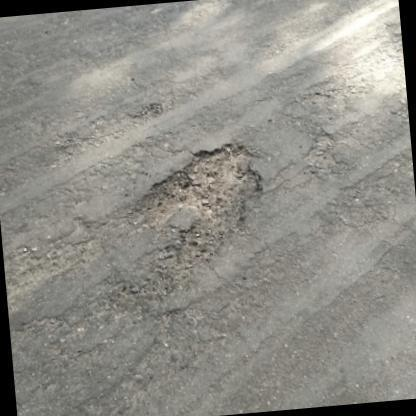pothole: (126, 140, 266, 260)
